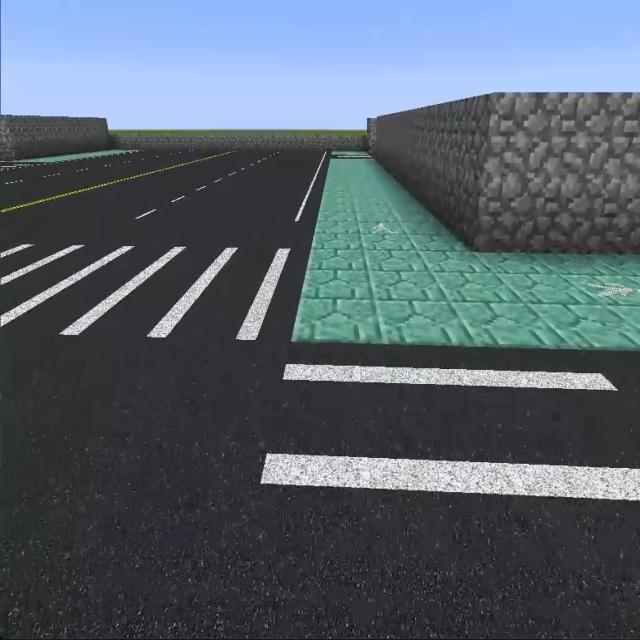crosswalk: (217, 353, 639, 628), (3, 233, 312, 346)
road: (13, 334, 283, 625), (7, 143, 331, 241)
sidewalk: (292, 156, 639, 352), (4, 150, 133, 165)
